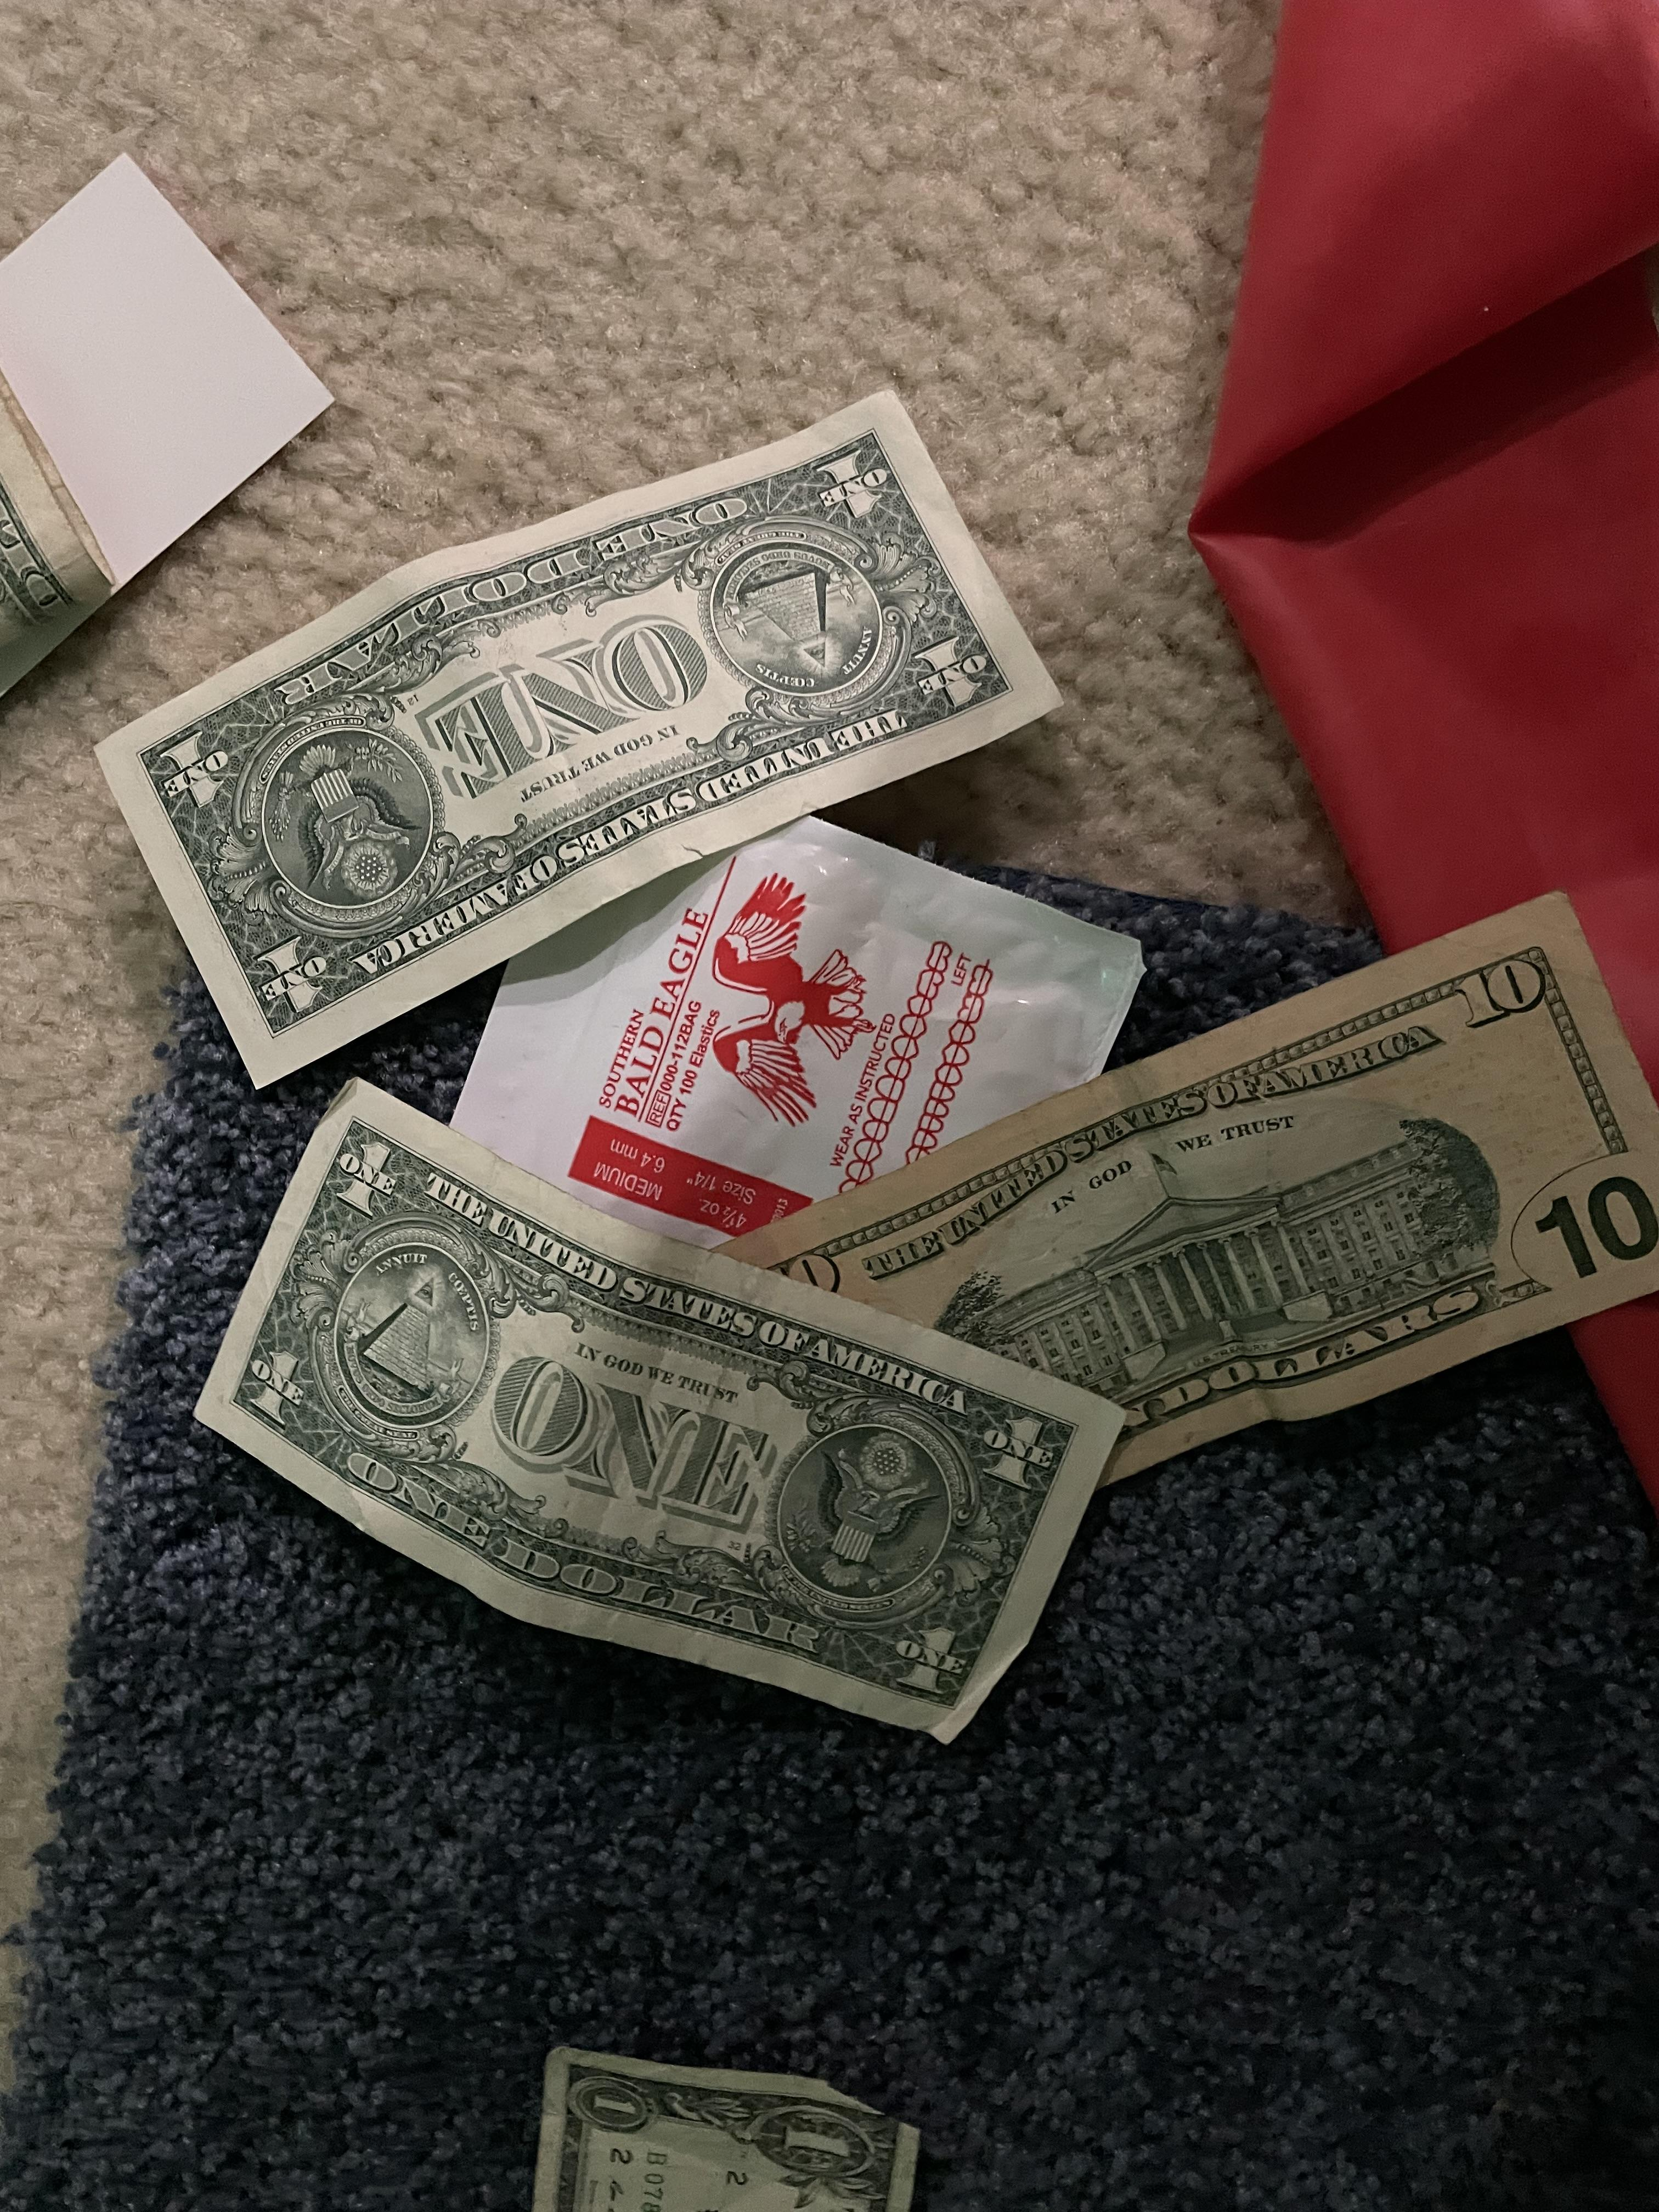OneBill: (82, 374, 1075, 1094), (185, 1083, 1131, 1735)
TenBill: (730, 887, 1657, 1477)
